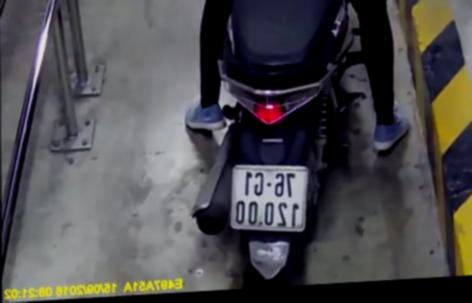License_Plate: (225, 159, 314, 237)
